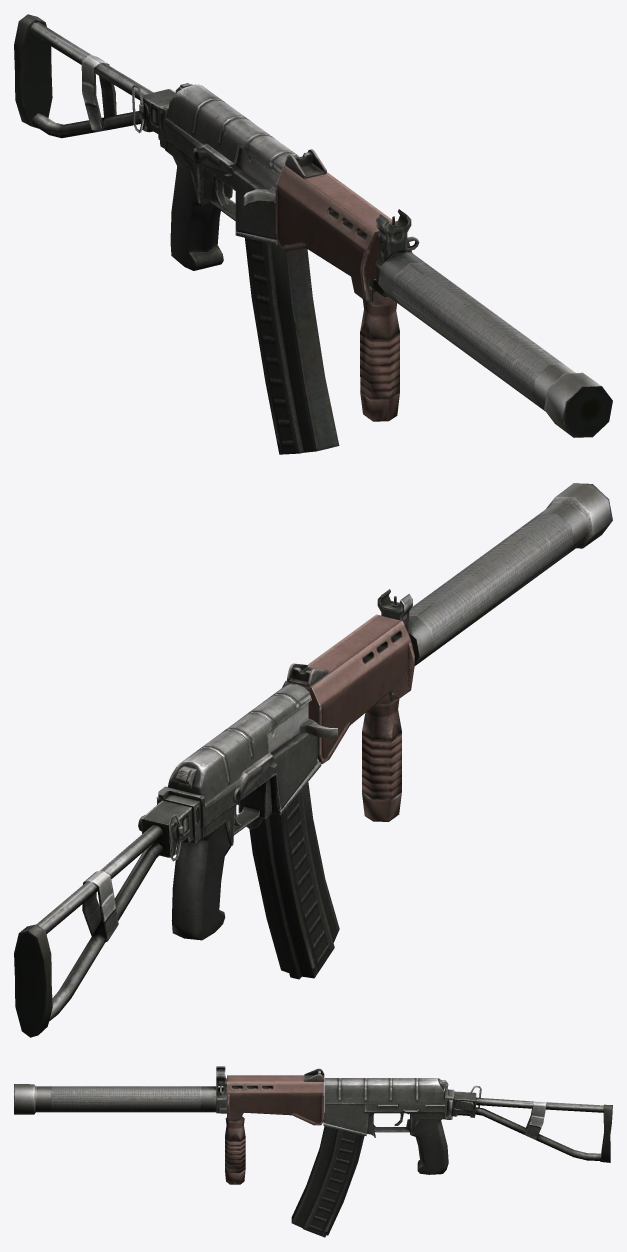
Rendered from Assault_Rifle_SMG_VAL_Body_Main_(000708).glb.
The picture shows the model from 3 angles, top to bottom: view 1: azimuth 30°, elevation 25°; view 2: azimuth 150°, elevation 25°; view 3: azimuth 270°, elevation 25°; orthographic projection. The views are drawn at different scales.
Parts seen in each view (by area): view 1: SMG_VAL; view 2: SMG_VAL; view 3: SMG_VAL.
Boxes of the visible parts, bbox=[...] form: SMG_VAL: bbox=[14, 14, 612, 454]; SMG_VAL: bbox=[14, 483, 612, 1037]; SMG_VAL: bbox=[14, 1066, 612, 1237].
Bounding box in the file's own units: 0.0903 × 0.368 × 1.2.
1 material, 1 textured.
